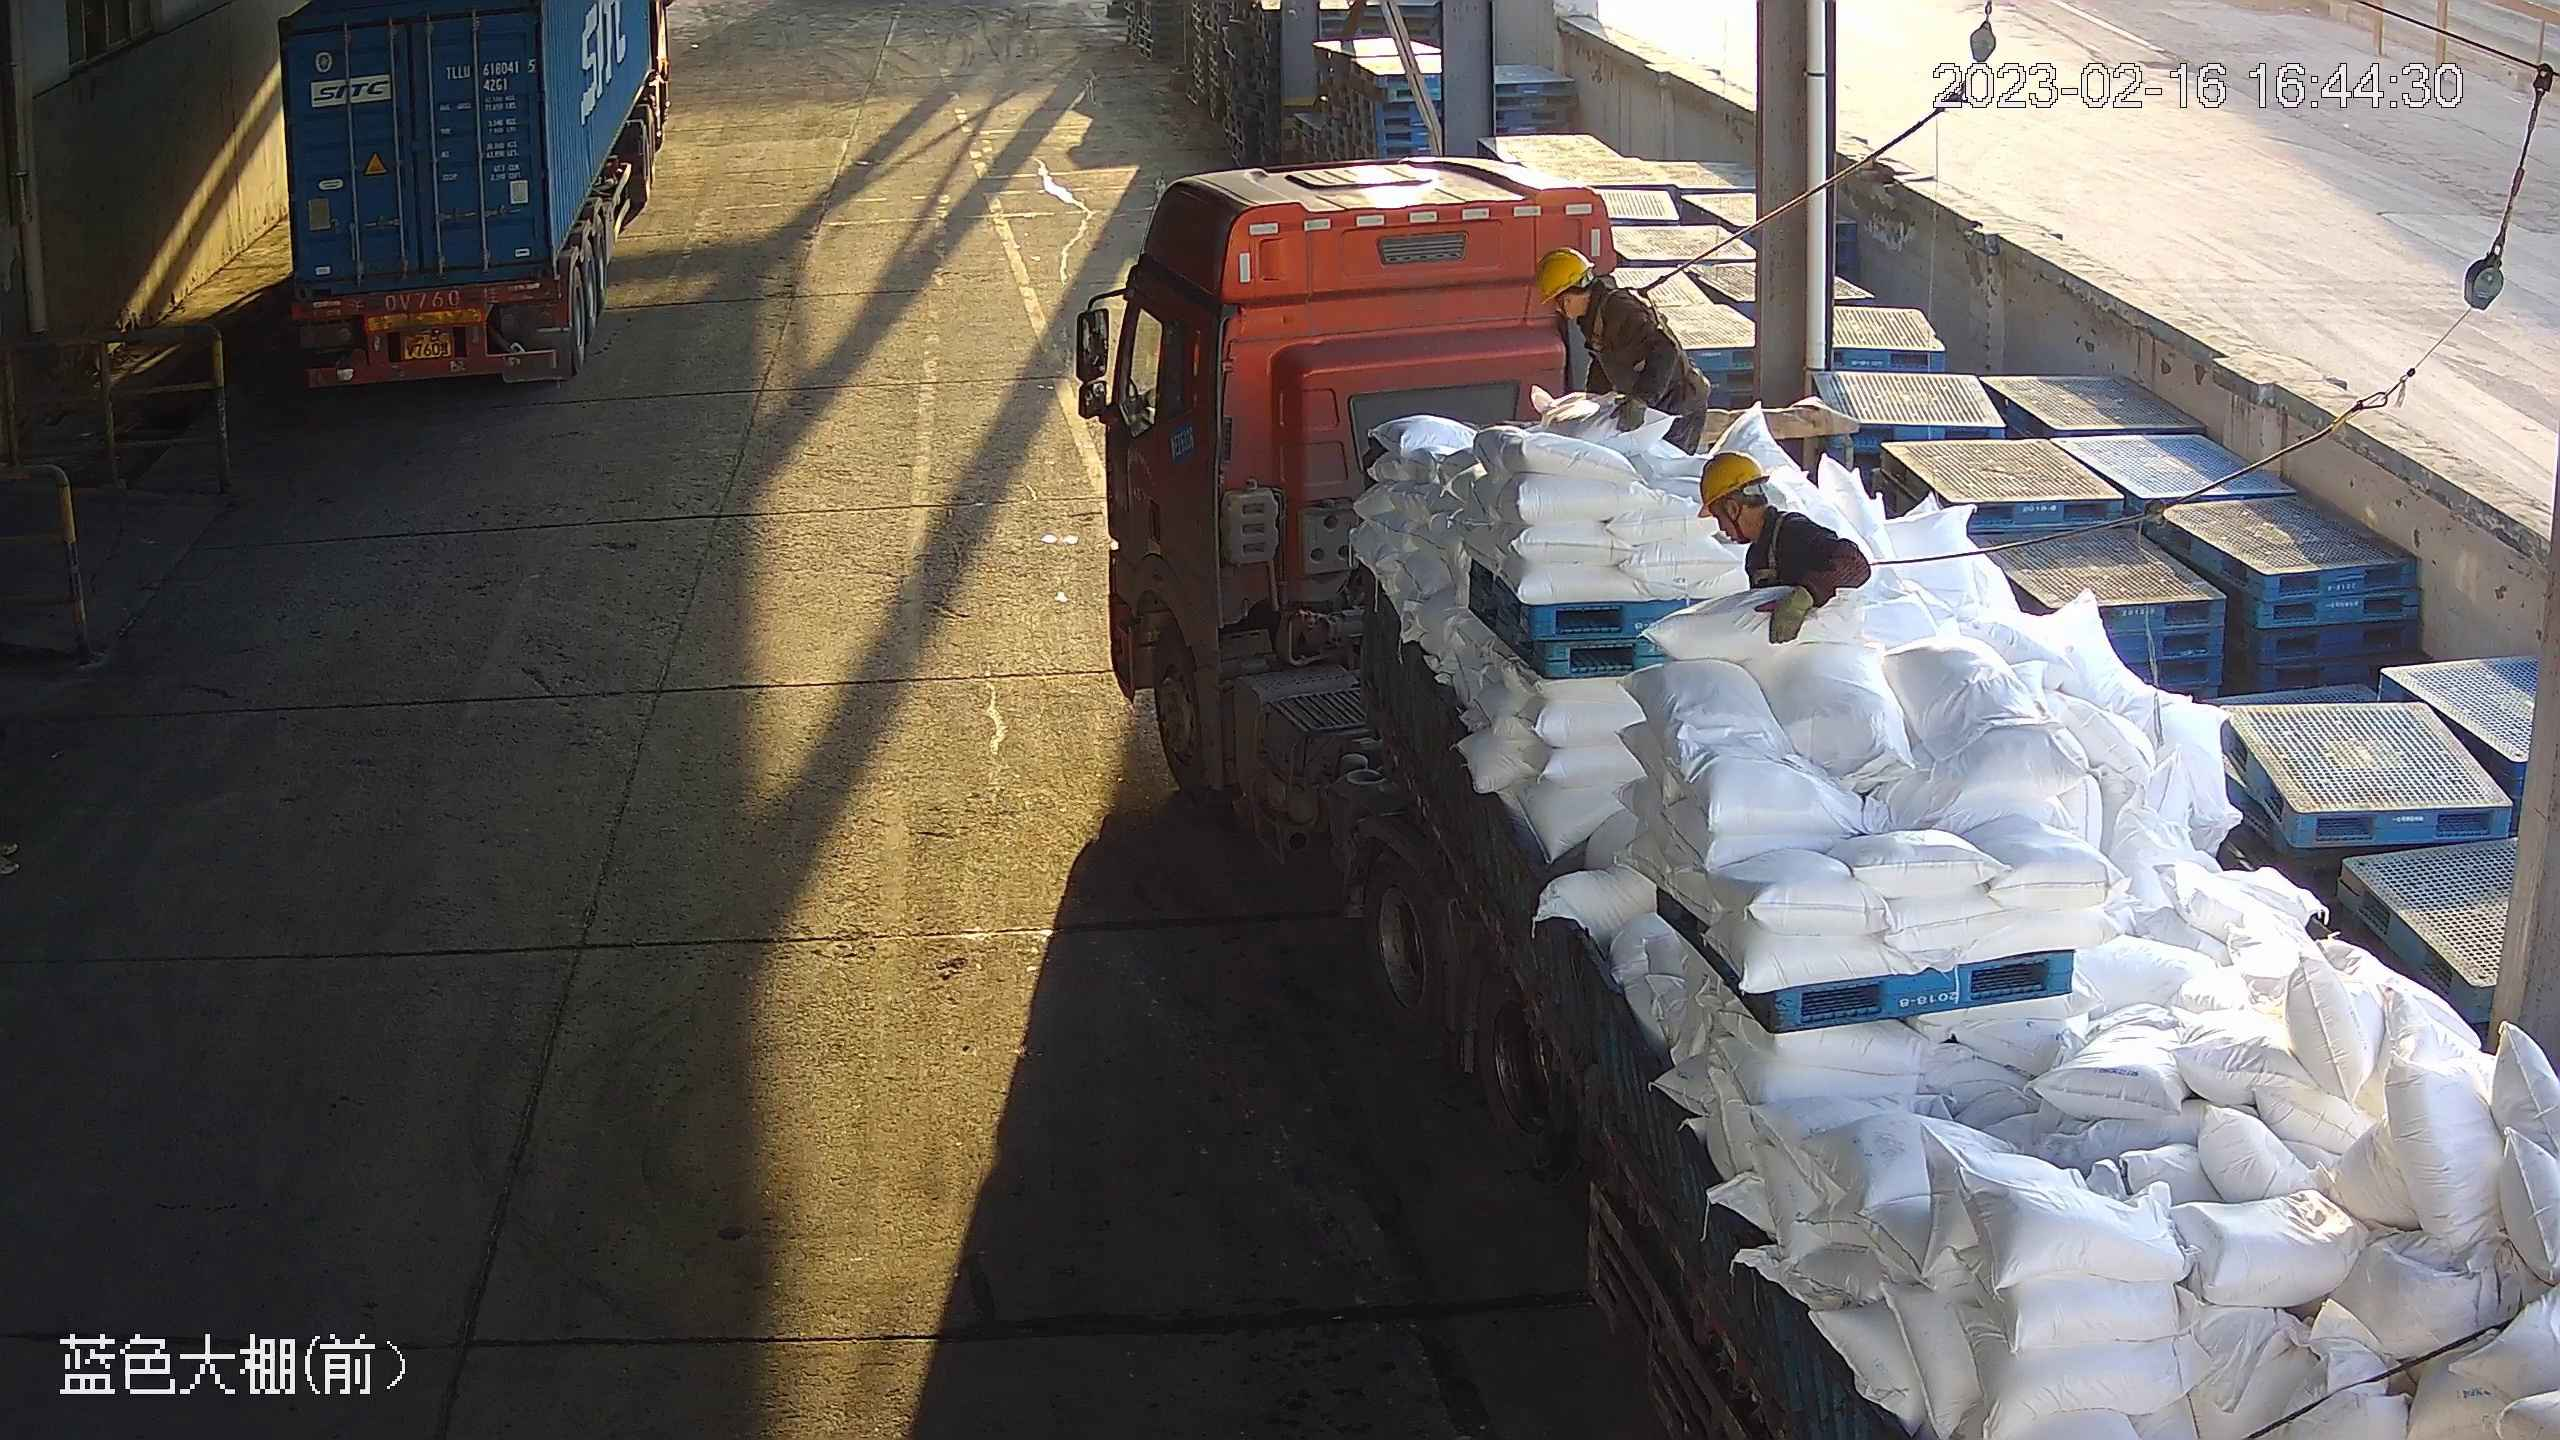belt: (1585, 279, 1646, 362), (1749, 514, 1796, 601)
head: (1696, 449, 1816, 560), (1529, 247, 1662, 343)
helmet: (1690, 453, 1770, 508), (1533, 249, 1583, 303)
truck: (1088, 169, 2560, 1440), (263, 1, 685, 397)
